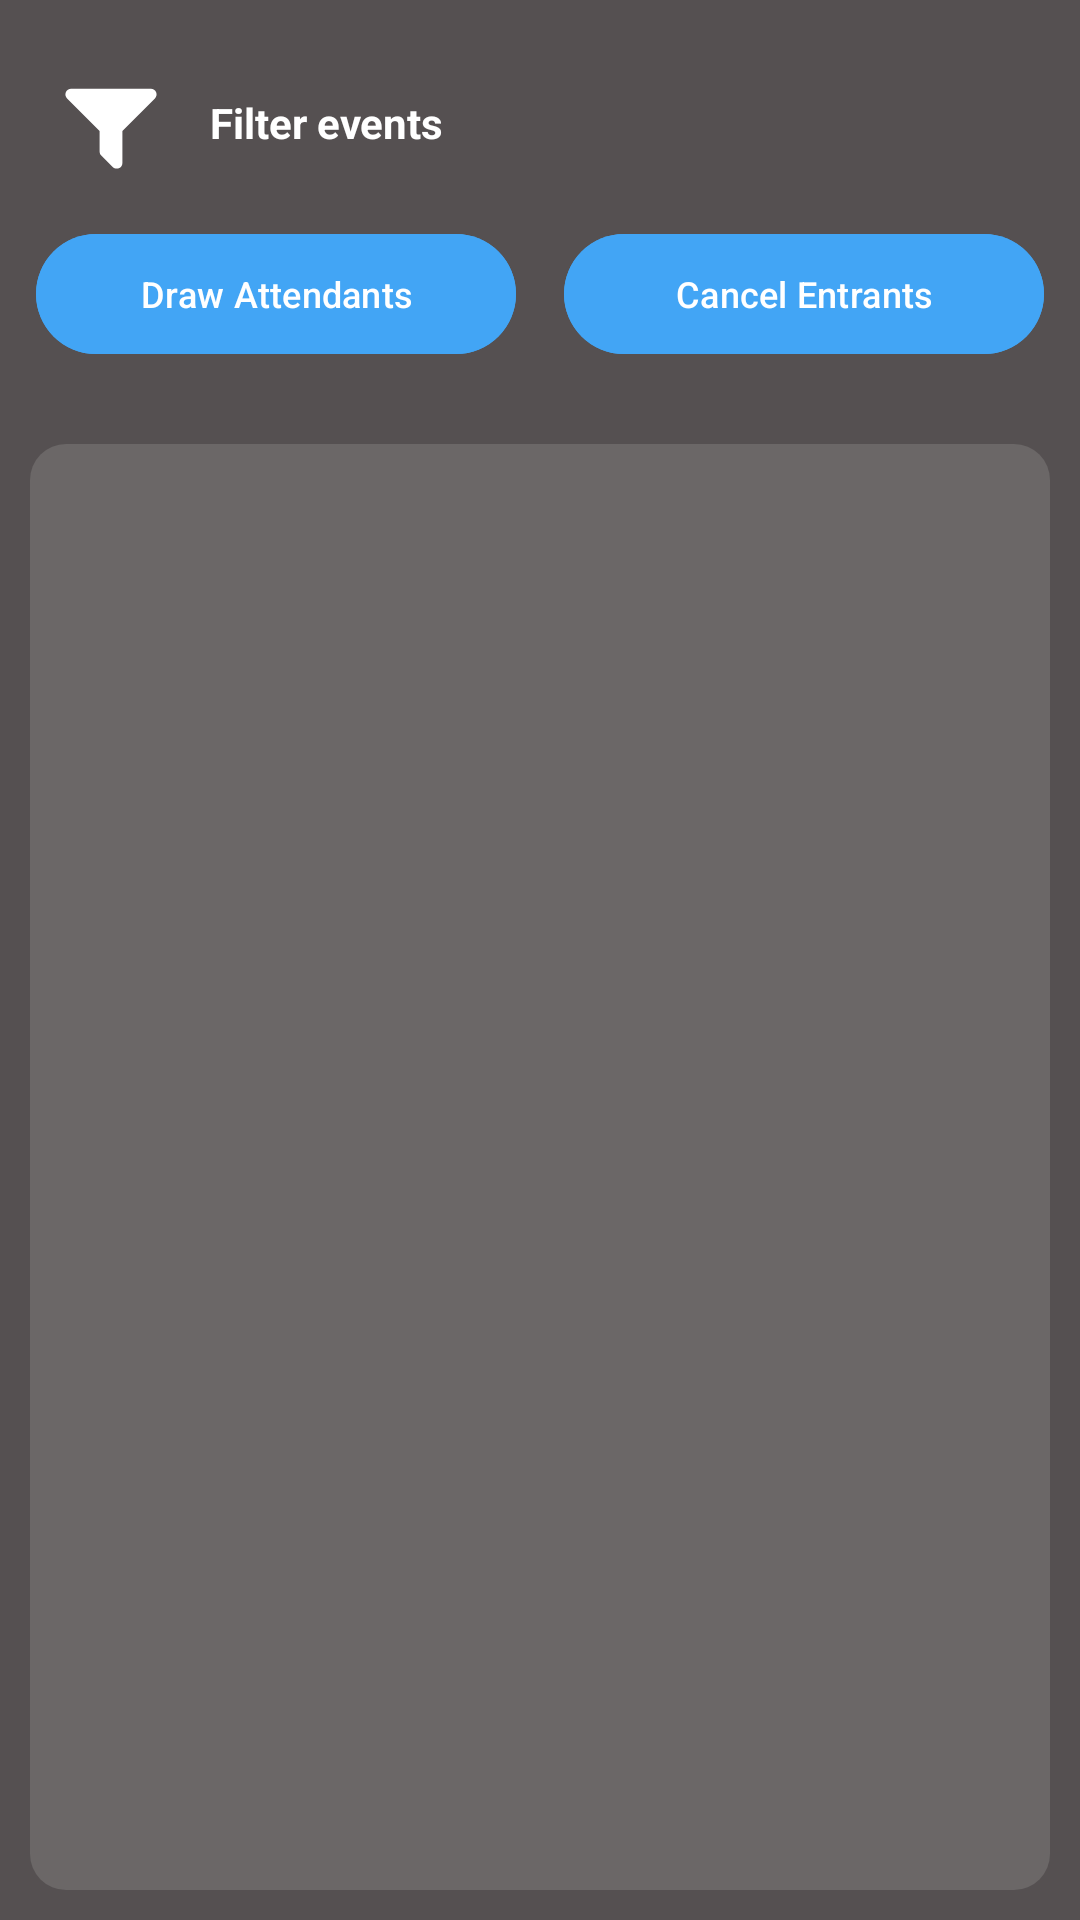

Point at icon controls on the screen. Image size 1080px x 1920px, points as (x,y).
filter full: (111,128)
